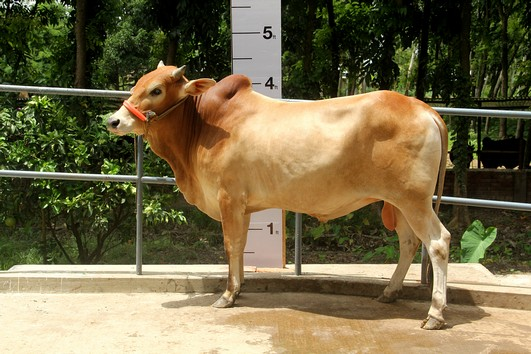cow: (103, 52, 457, 331)
